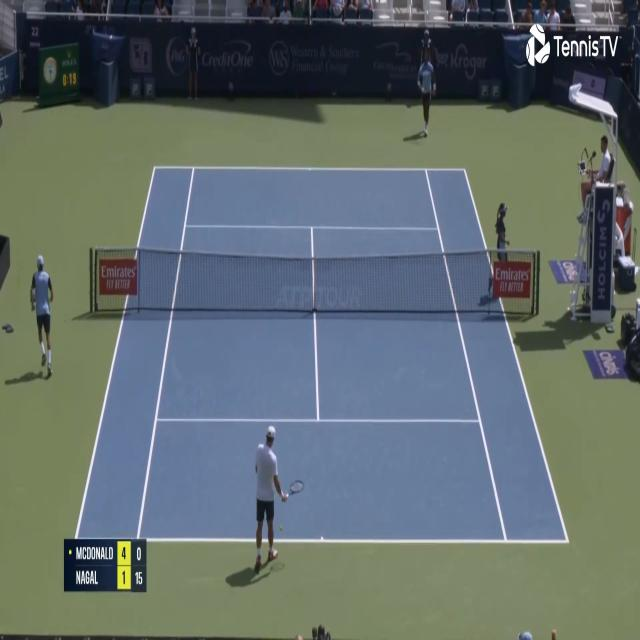tennis-player: (250, 423, 309, 582), (416, 48, 438, 139)
